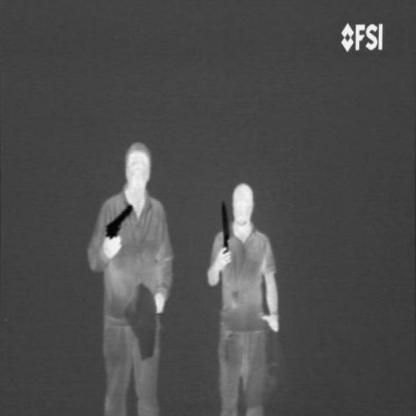weapon: (102, 202, 137, 242)
